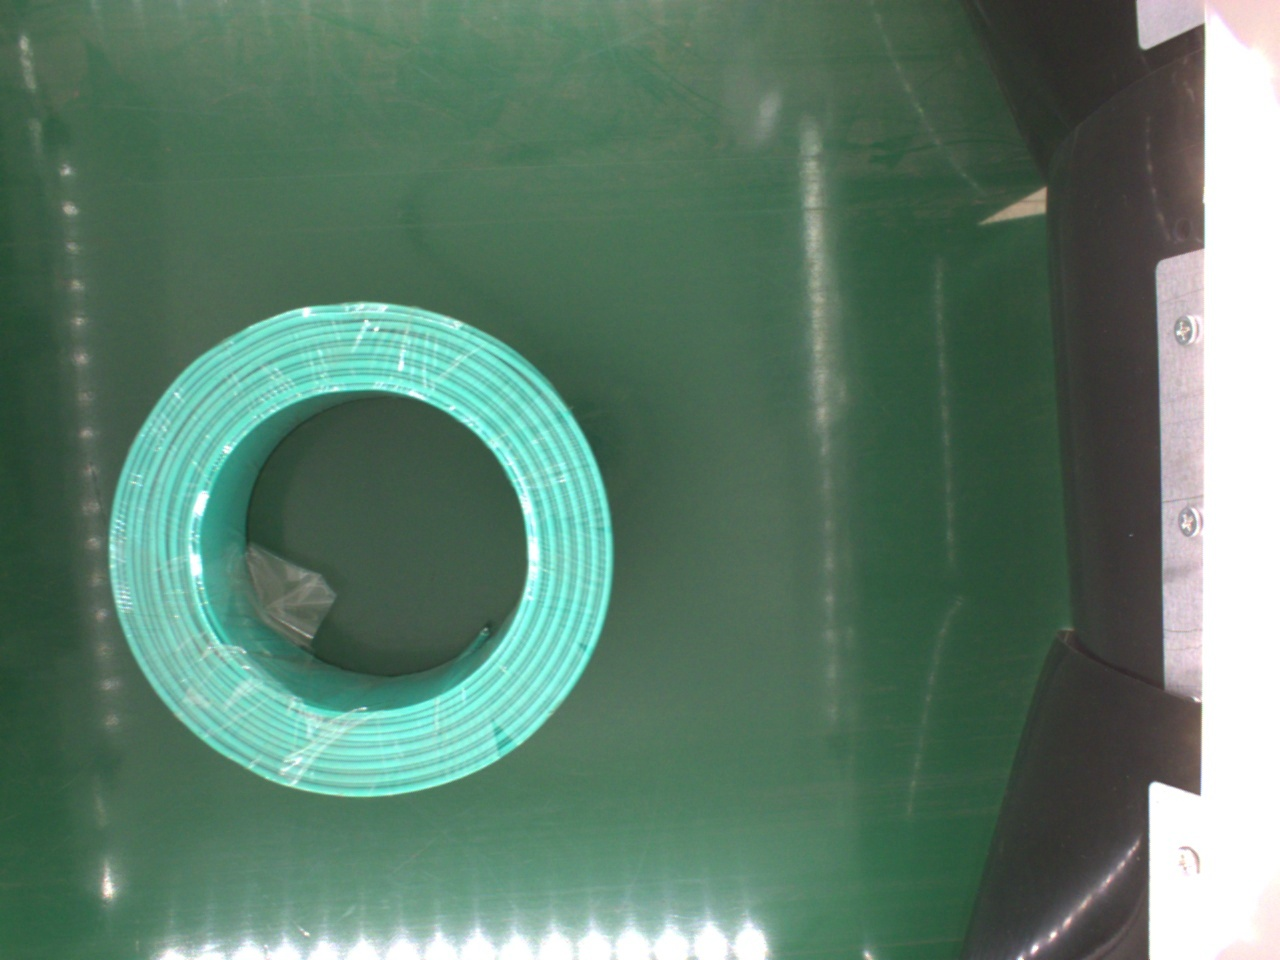green: (107, 301, 611, 805)
